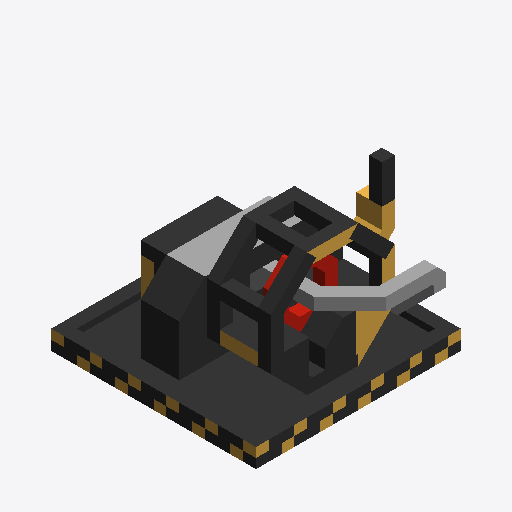
A Minecraft block model of 66 cuboids, rendered isometrically (azimuth 45°, elevation 35.3°) with the resource pack's own textures.
Parts seen in each view (by area): element 1, element 46, element 45, element 7, element 8, element 10, element 6, element 35, element 48, element 60, element 27, element 19 (+18 smaller).
Part boxes in pixels (bbox=[...]): element 1: bbox=[83, 299, 428, 431]; element 46: bbox=[243, 322, 460, 468]; element 45: bbox=[64, 329, 254, 460]; element 7: bbox=[141, 299, 204, 379]; element 8: bbox=[167, 196, 306, 364]; element 10: bbox=[141, 254, 204, 320]; element 6: bbox=[141, 196, 242, 265]; element 35: bbox=[220, 308, 308, 365]; element 48: bbox=[51, 277, 140, 357]; element 60: bbox=[314, 286, 385, 310]; element 27: bbox=[258, 245, 315, 319]; element 19: bbox=[207, 216, 257, 284].
Bounding box in the file's own units: 16 × 12.83 × 16.